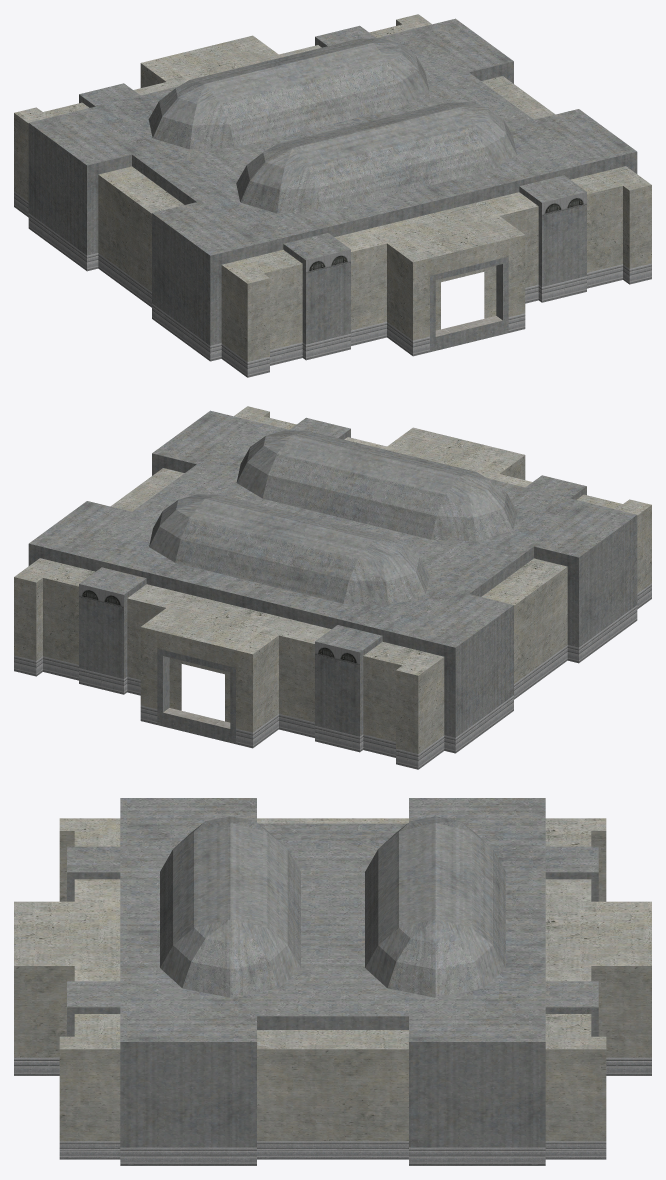
The model's file is mun_all_hospital_s02_r0_mesh_l1.fbx.
3 views of the same model, one above another, from view 1: azimuth 30°, elevation 25°; view 2: azimuth 150°, elevation 25°; view 3: azimuth 270°, elevation 25° (orthographic). The views are drawn at different scales.
Parts seen in each view (by area): view 1: mesh_node; view 2: mesh_node; view 3: mesh_node.
Boxes of the visible parts, left/top/right/bottom form: mesh_node: left=14, top=14, right=651, bottom=377; mesh_node: left=14, top=406, right=651, bottom=769; mesh_node: left=14, top=798, right=651, bottom=1165.
Bounding box in the file's own units: 38 × 12.56 × 42.
